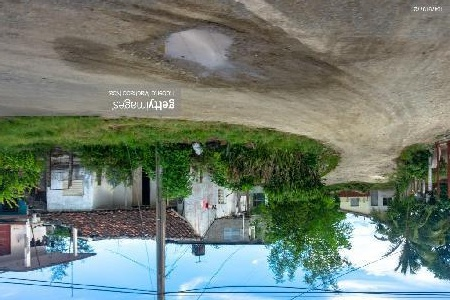pothole: (161, 25, 238, 74)
